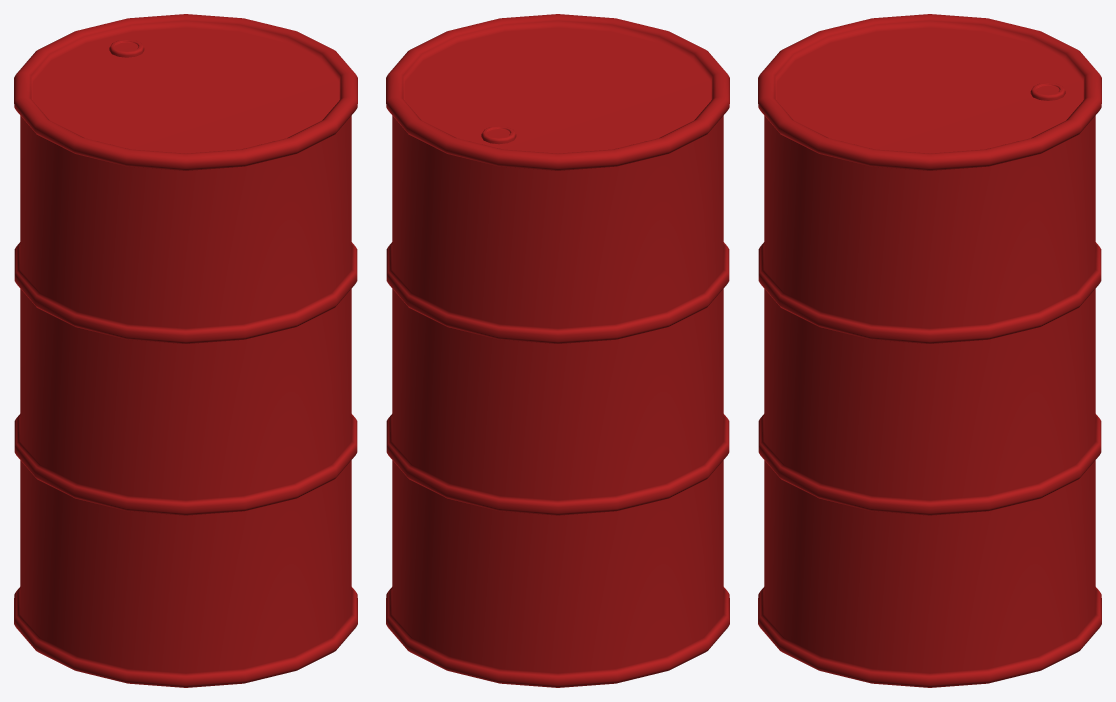
The model's file is Barrel.fbx.
3 renders of one model, left to right at view 1: azimuth 30°, elevation 25°; view 2: azimuth 150°, elevation 25°; view 3: azimuth 270°, elevation 25°, orthographic.
Visible parts, largest first — view 1: Barrel; view 2: Barrel; view 3: Barrel.
Boxes of the visible parts, x1,y1,x2,y2 form: Barrel: (14,14,357,687); Barrel: (386,14,729,687); Barrel: (758,14,1101,687).
Bounding box in the file's own units: 78.64 × 132 × 77.44.
